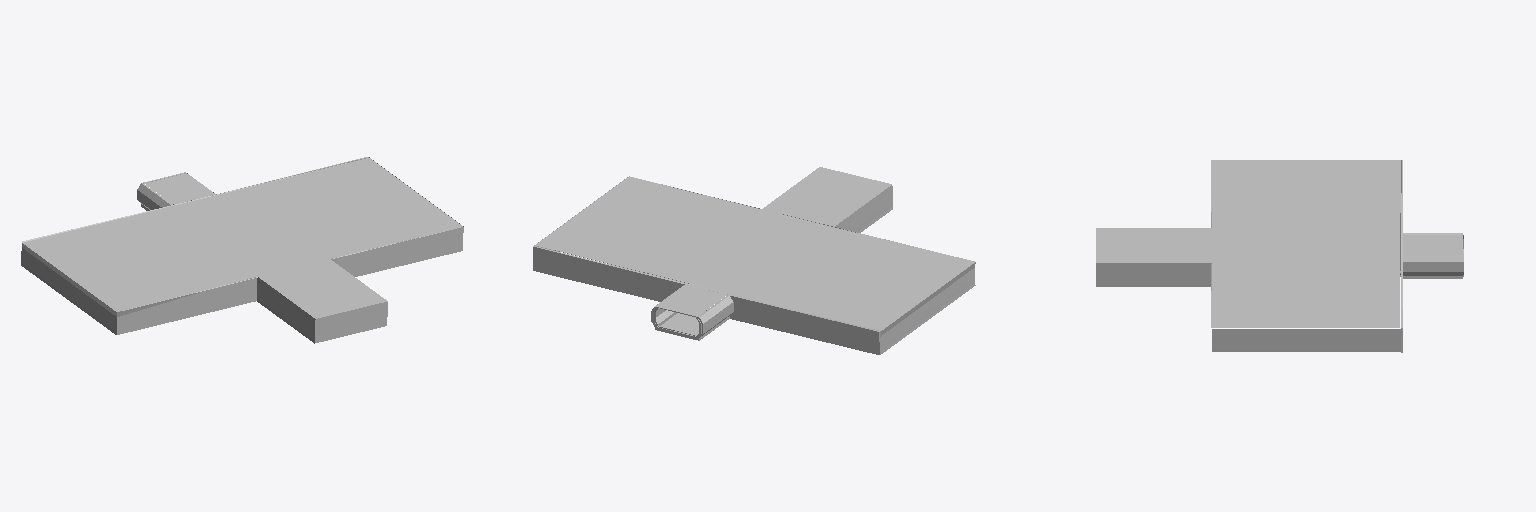
The model's file is spaceshuttle.obj.
The picture shows the model from 3 angles: view 1: azimuth 30°, elevation 25°; view 2: azimuth 150°, elevation 25°; view 3: azimuth 270°, elevation 25°; orthographic projection.
Parts seen in each view (by area): view 1: pCube2 polySurface3, pCube2 polySurface4; view 2: pCube2 polySurface3, pCube2 polySurface4; view 3: pCube2 polySurface3, pCube2 polySurface4.
Boxes of the visible parts, x1=… form: pCube2 polySurface3: x1=21, y1=157, x2=463, y2=343; pCube2 polySurface4: x1=21, y1=157, x2=463, y2=341; pCube2 polySurface3: x1=533, y1=167, x2=975, y2=354; pCube2 polySurface4: x1=533, y1=167, x2=975, y2=354; pCube2 polySurface3: x1=1096, y1=160, x2=1460, y2=352; pCube2 polySurface4: x1=1096, y1=160, x2=1460, y2=352.
Size of the model in its own units: 395 by 26.54 by 363.